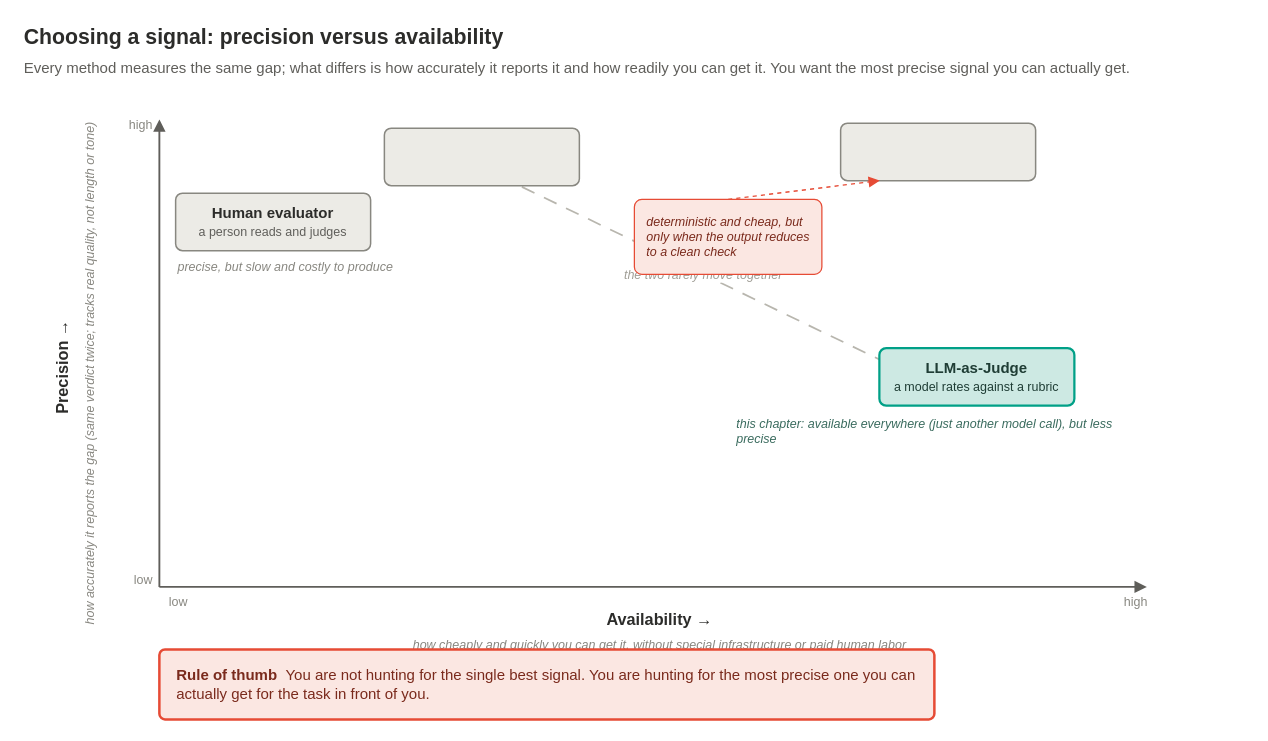
The diagram is 1268 pixels wide and 741 high, and some of its shapes have lost their labels. Here are the shapes that lost their labels. From the top down, the box of each, then its label:
(383, 127, 580, 186): Gold set fixed questions + known answers
(839, 122, 1036, 181): Programmatic deterministic pass / fail
